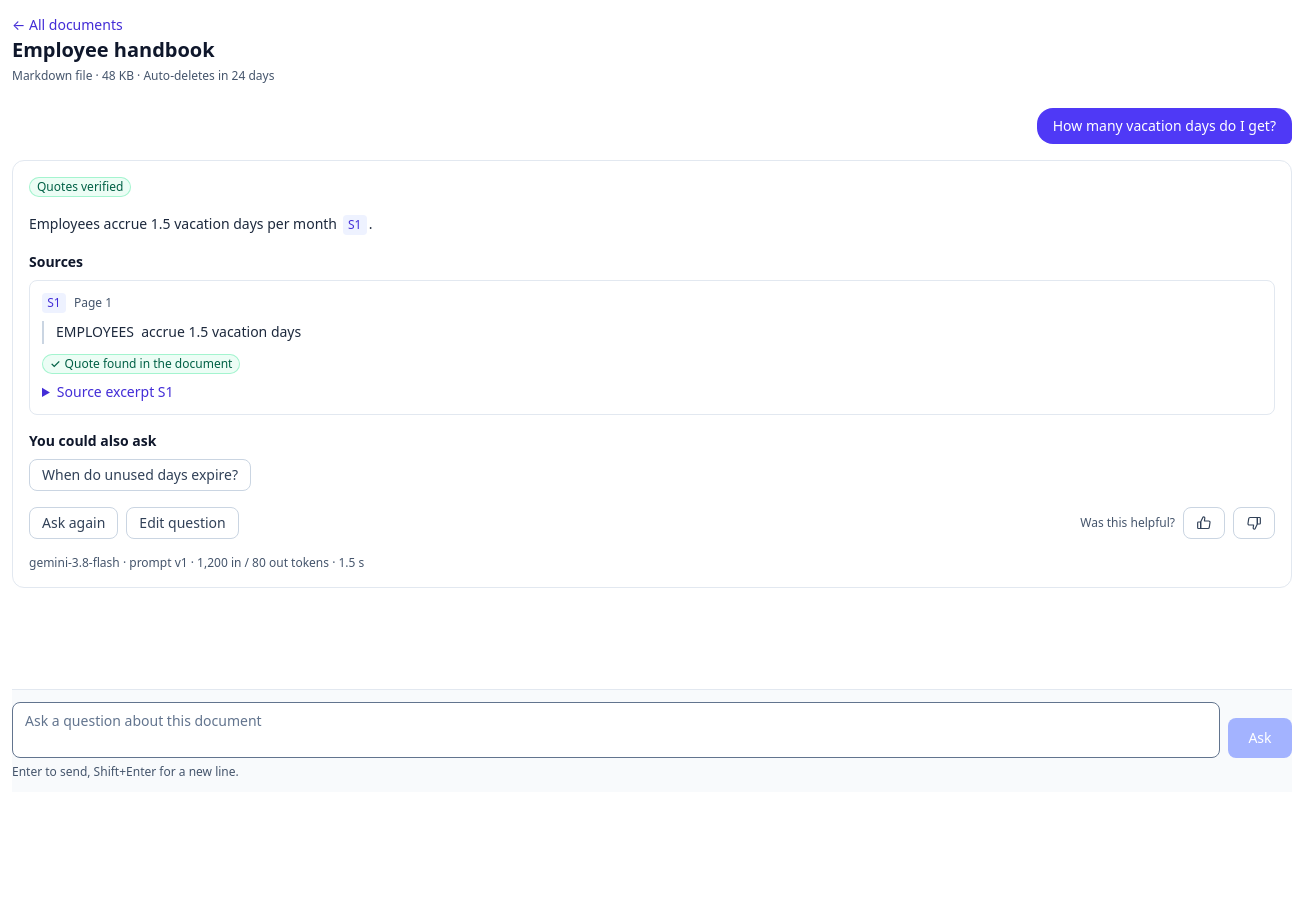
Test: ChatView: the excerpt shows the proof › marks the verified quote inside the excerpt, however the source spells it
The width and height of the screenshot is (1304, 912).
Click the button named "Show source S1" at (355, 225), box [343, 215, 367, 235]
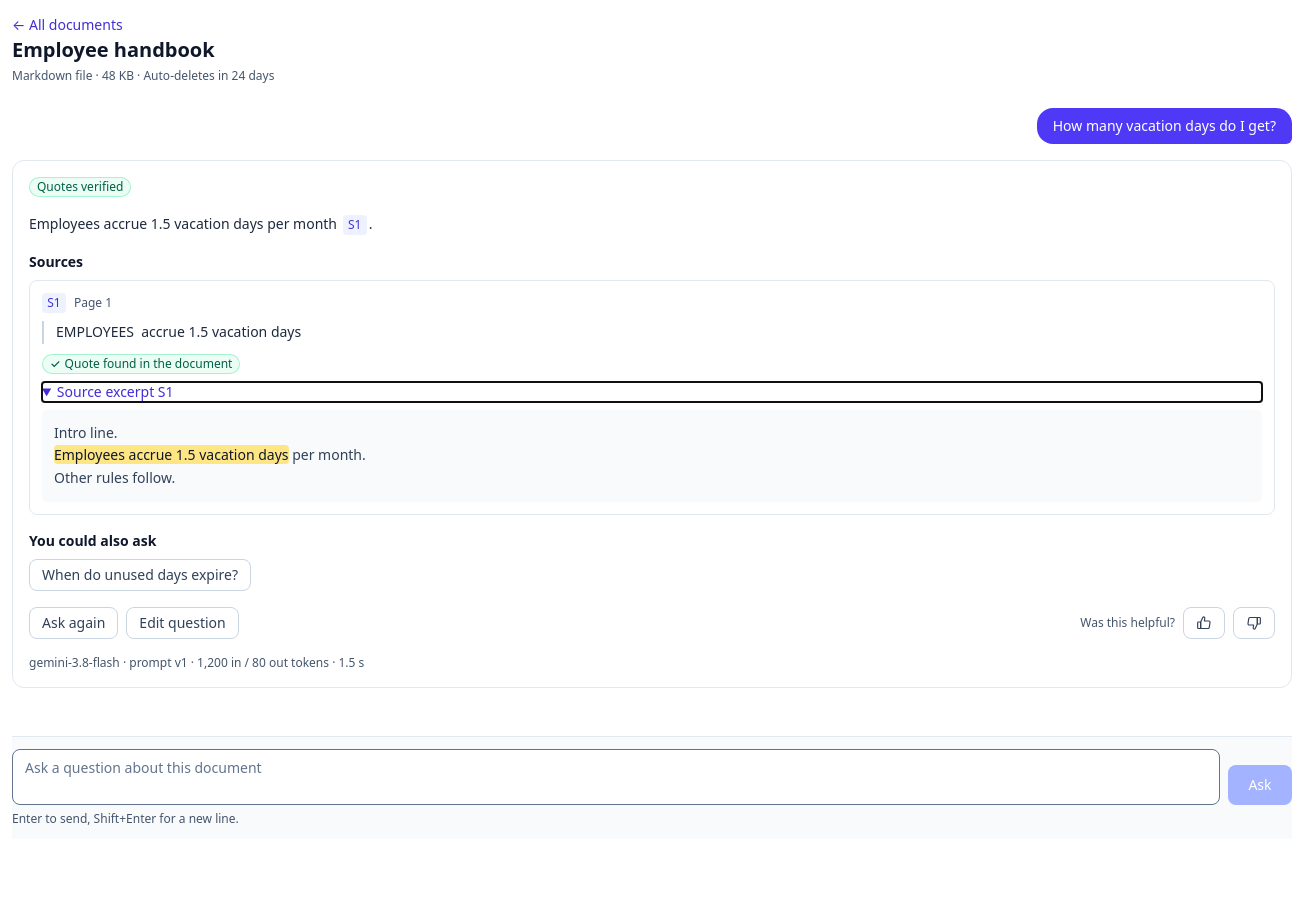
Result: the text "Employees accrue 1.5 vacation days" is shown at [54, 445, 288, 464]
